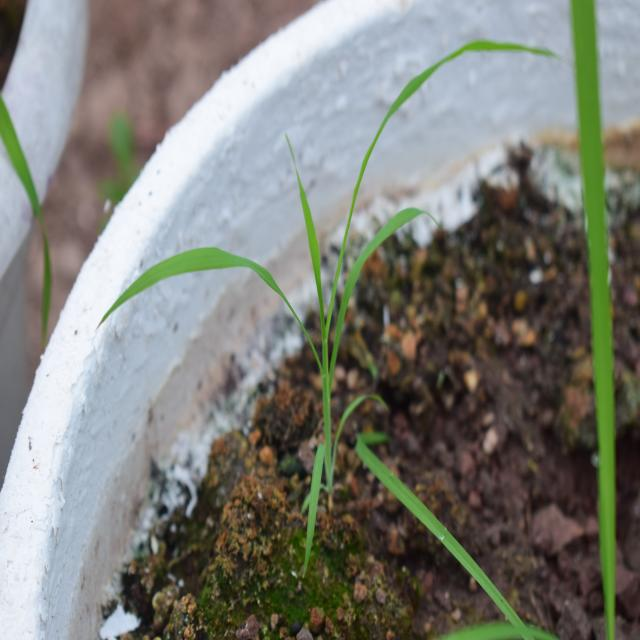barnyard_grass: (104, 83, 567, 443)
